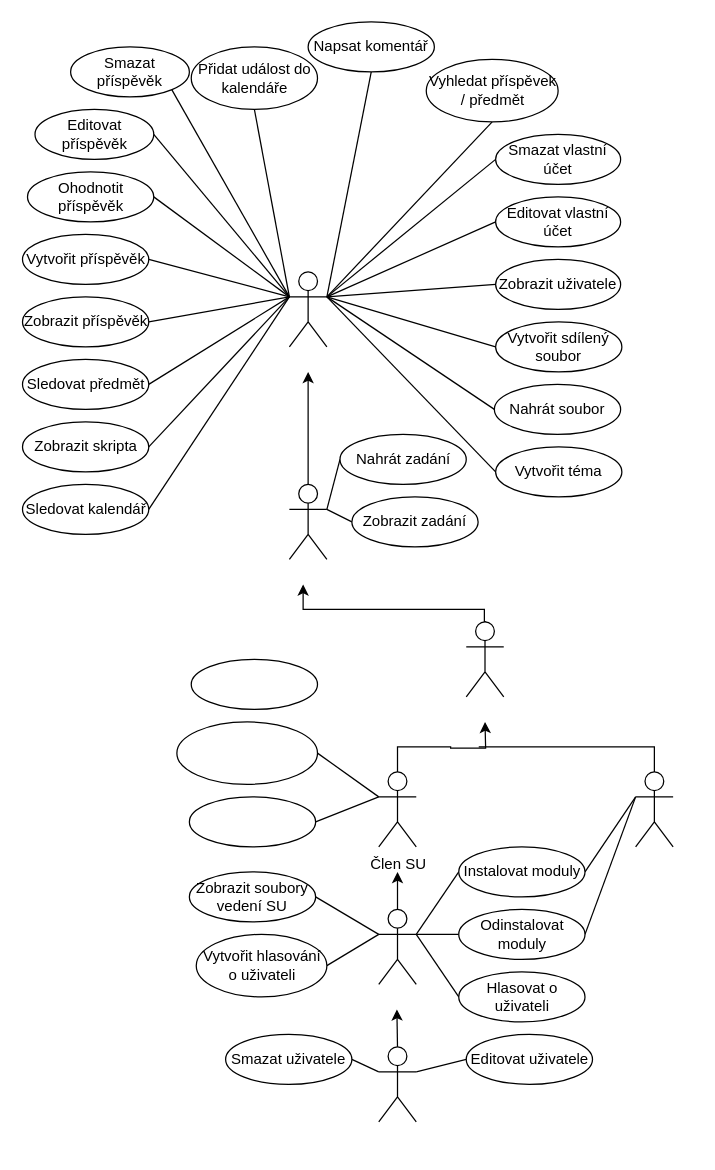
Some shapes in this 715 by 1170 pixel diagram are drawn without their labels. Each missing label, with the box of its shape:
Admin: (378, 1046, 416, 1122)
Doktorand / Učitel: (288, 271, 327, 347)
Moderátor: (634, 771, 673, 847)
Ověřený doktorand / učitel: (288, 483, 327, 559)
Poslat hromadnou zprávu: (176, 721, 318, 784)
Student: (465, 621, 504, 697)
Vedení SU: (378, 908, 416, 984)
Zobrazit formuláře: (188, 796, 316, 847)
Zobrazit soubory SU: (190, 658, 318, 709)
